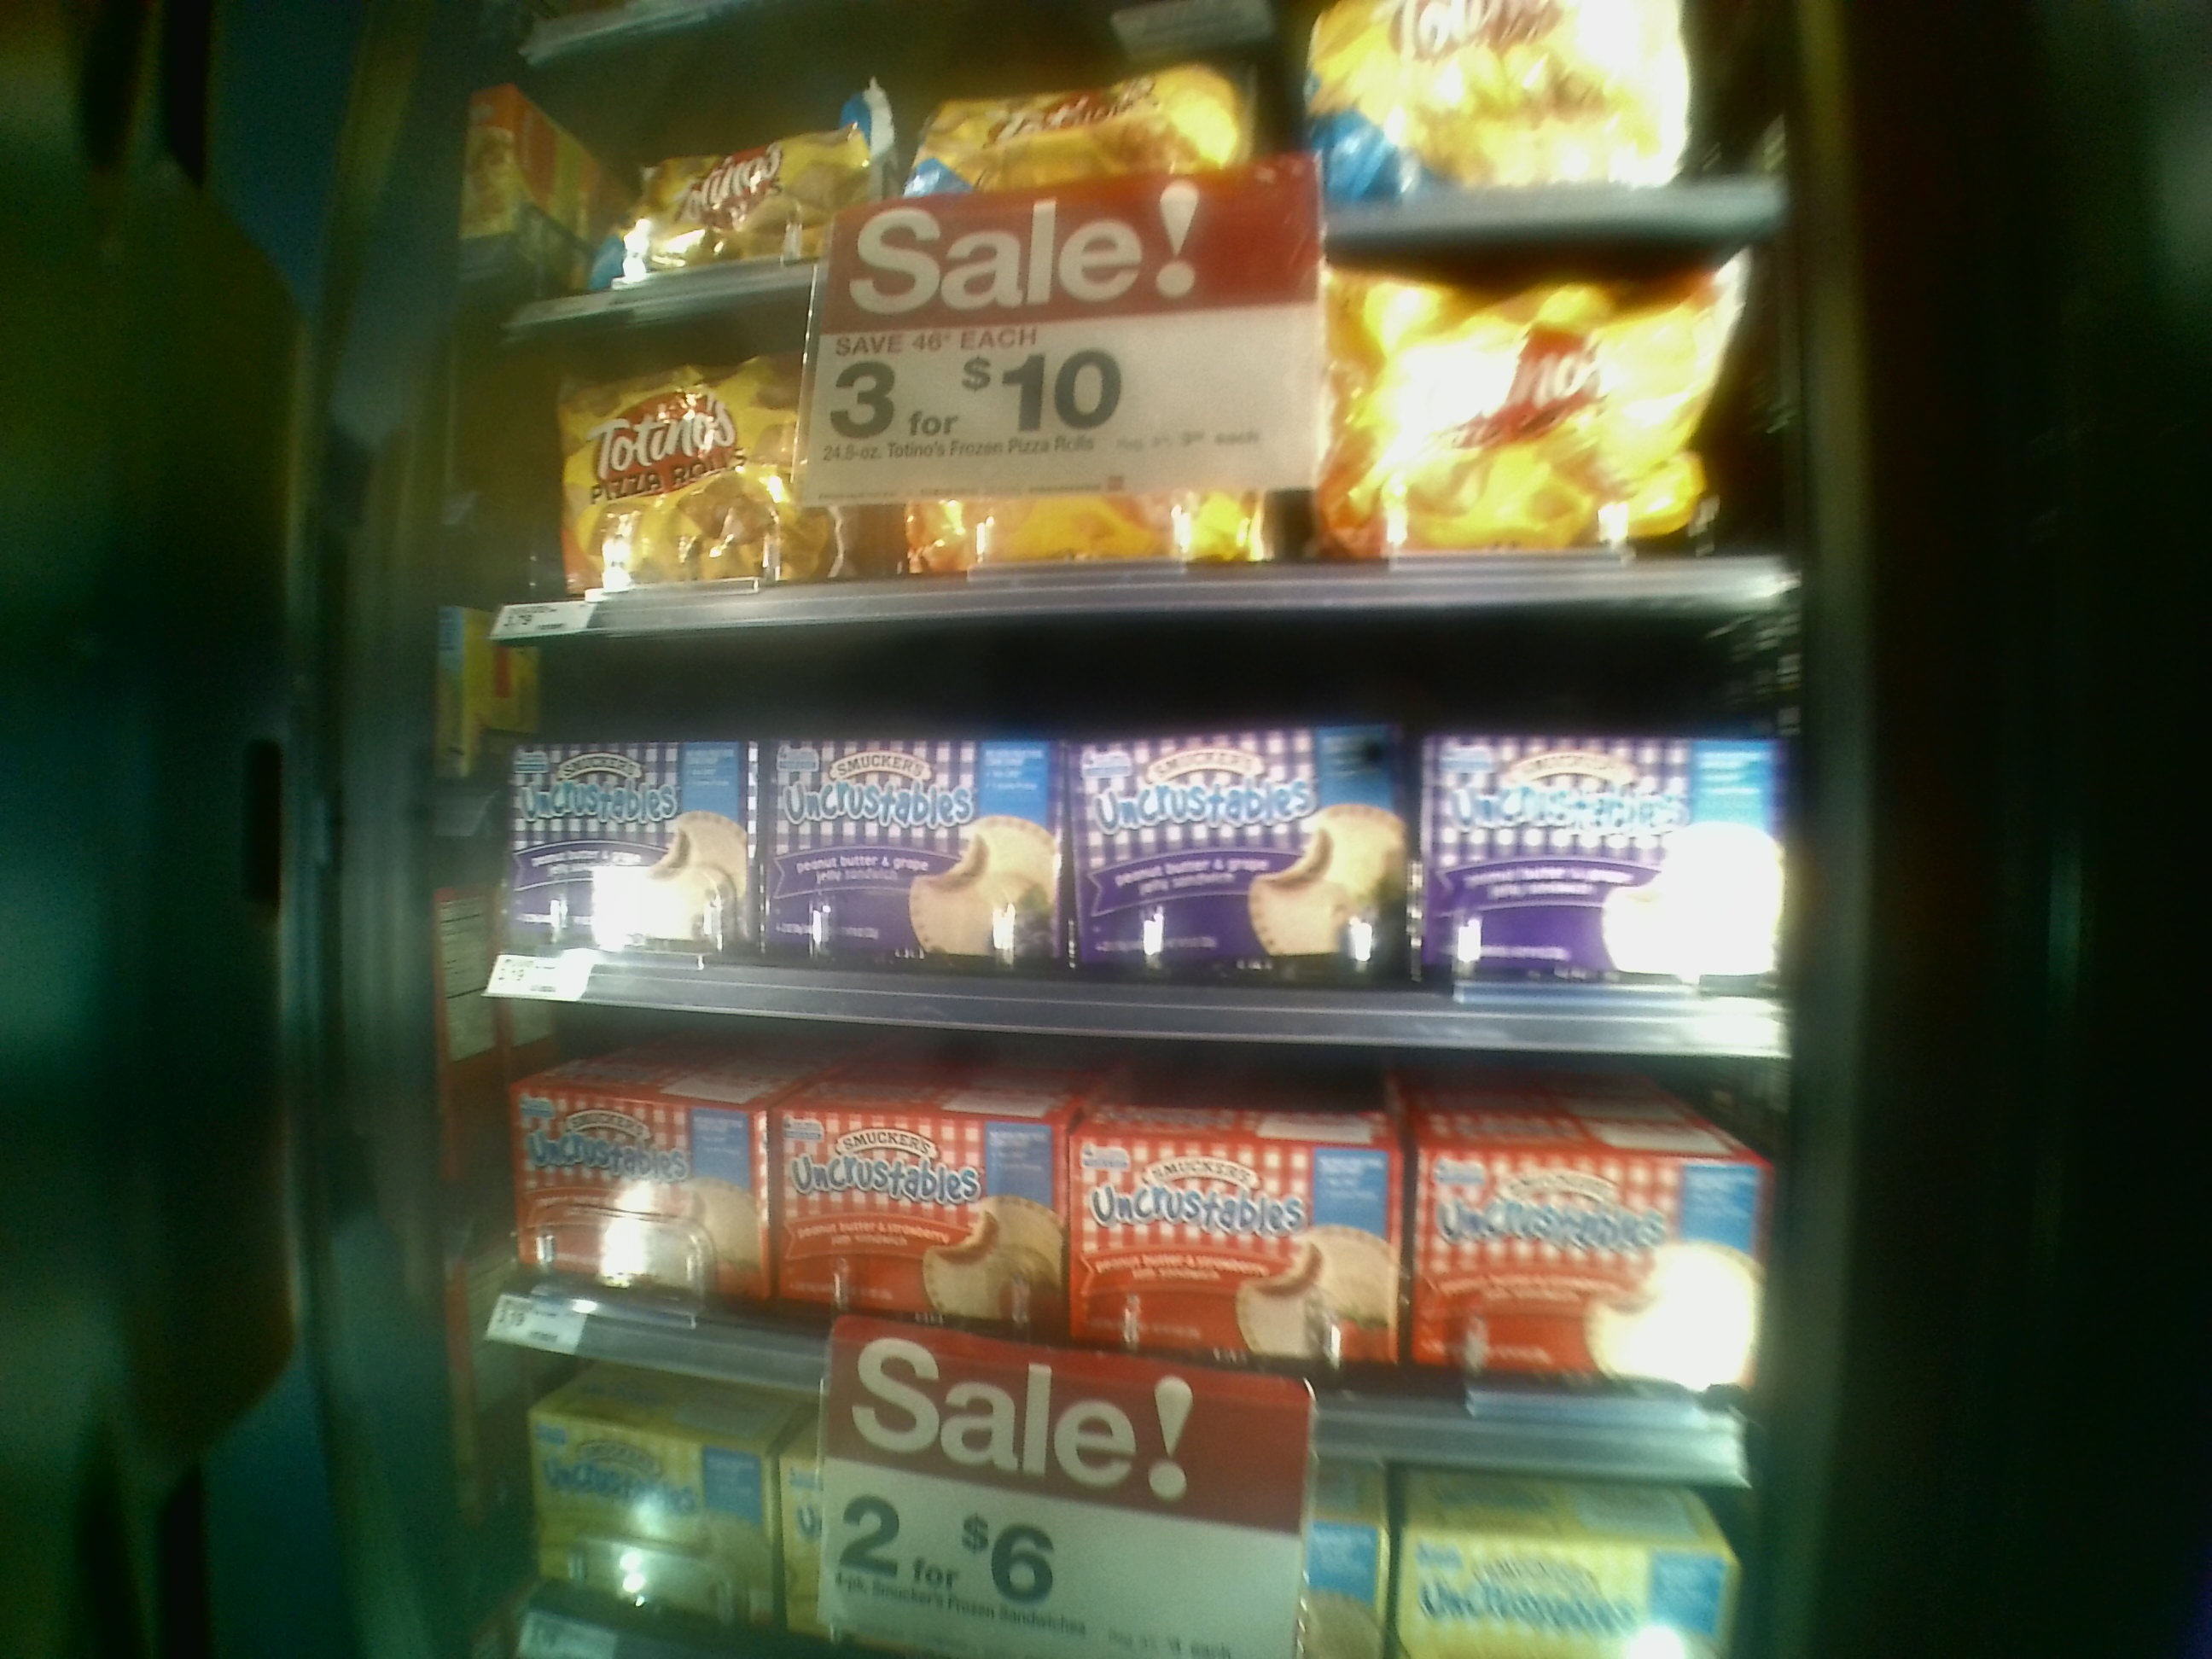shelf: (425, 999, 1775, 1495), (455, 645, 1797, 1068), (435, 336, 1784, 626)
